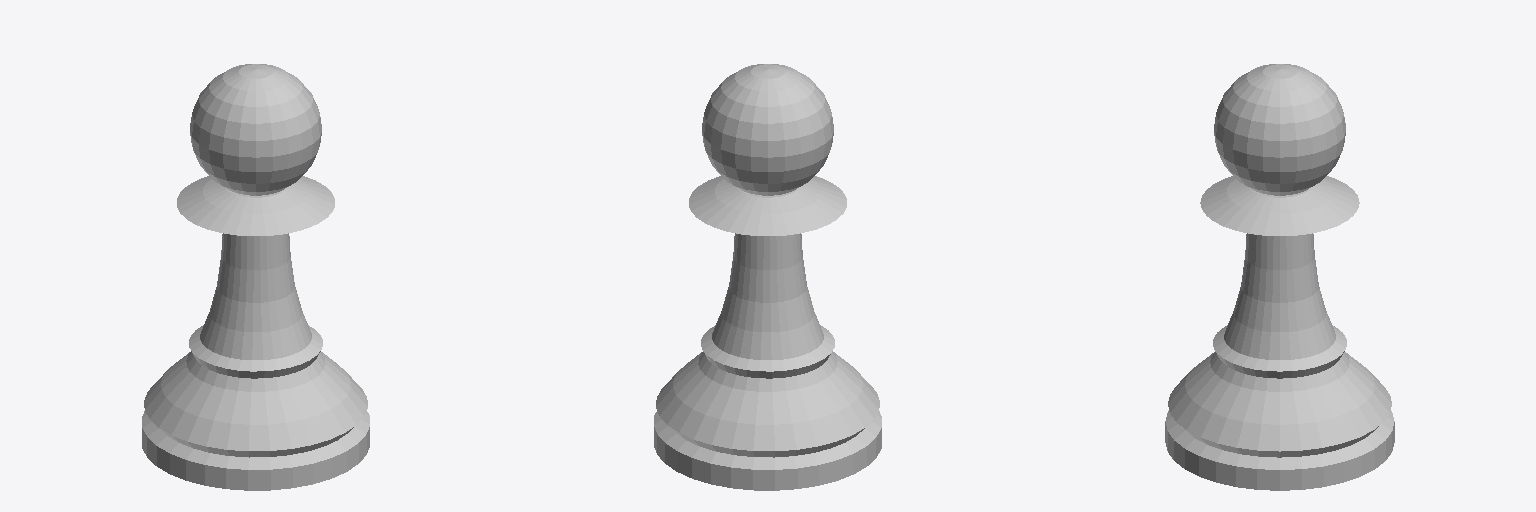
The model's file is Pawn.obj.
3 views of the same model, side by side, from view 1: azimuth 30°, elevation 25°; view 2: azimuth 150°, elevation 25°; view 3: azimuth 270°, elevation 25° (orthographic).
Visible parts, largest first — view 1: pawn_Cylinder; view 2: pawn_Cylinder; view 3: pawn_Cylinder.
Boxes of the visible parts, <box> form: pawn_Cylinder: <box>142,64,369,490</box>; pawn_Cylinder: <box>654,64,881,490</box>; pawn_Cylinder: <box>1165,64,1394,490</box>.
Bounding box in the file's own units: 1 × 1.8 × 1.